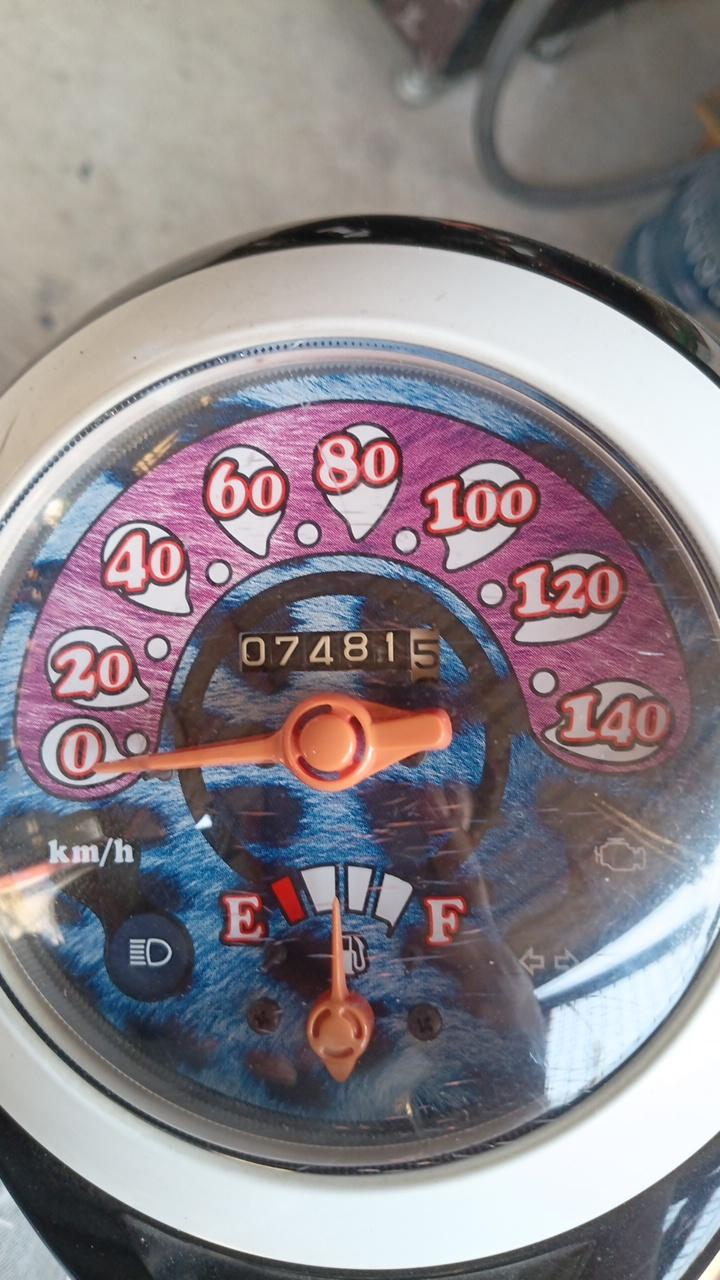0: (241, 634, 266, 668)
1: (384, 631, 396, 663)
4: (308, 634, 334, 666)
5: (412, 635, 440, 670)
7: (273, 634, 300, 667)
8: (342, 632, 369, 663)
odometer: (237, 625, 441, 689)
